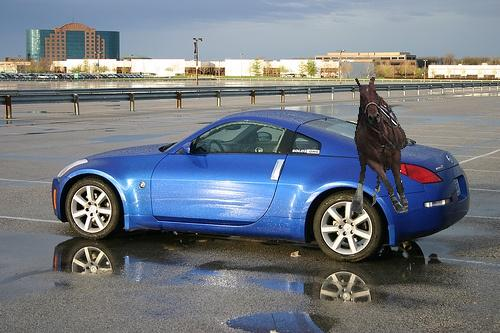tampered: (352, 78, 408, 213)
